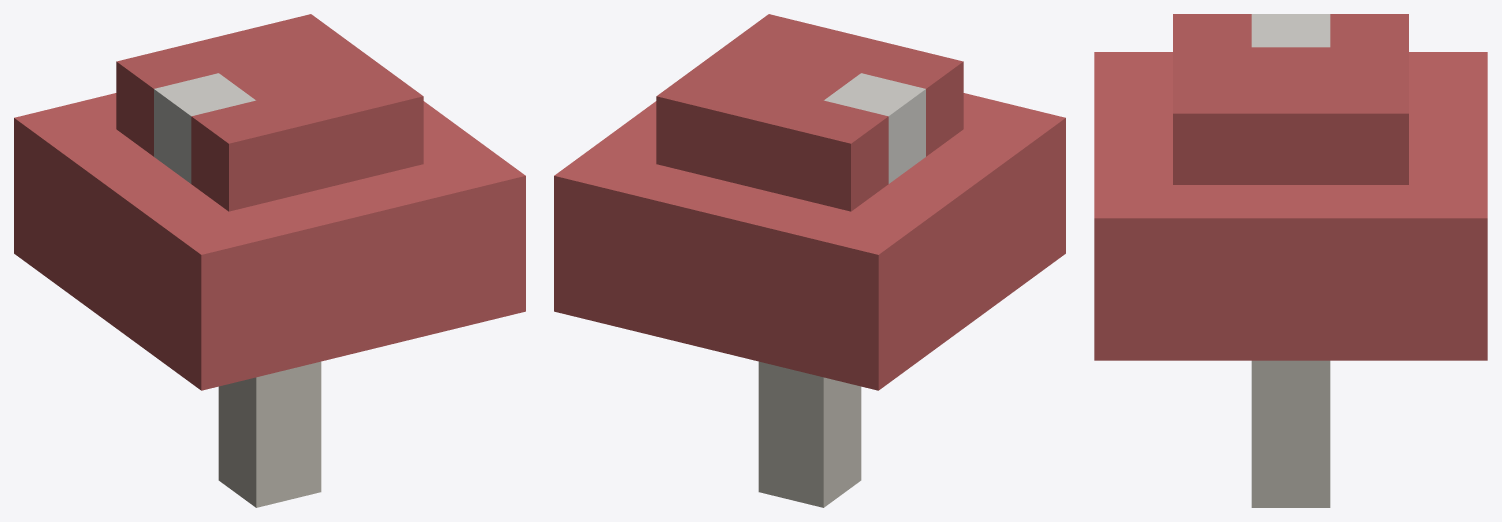
File: amanita_05.glb
3 renders of one model, left to right at view 1: azimuth 30°, elevation 25°; view 2: azimuth 150°, elevation 25°; view 3: azimuth 270°, elevation 25°, orthographic. The views are drawn at different scales.
Parts seen in each view (by area): view 1: amanita_05; view 2: amanita_05; view 3: amanita_05.
Boxes of the visible parts, box(x1,y1,x2,y2) form: amanita_05: box(14, 14, 525, 507); amanita_05: box(554, 14, 1065, 507); amanita_05: box(1094, 14, 1487, 507).
Bounding box in the file's own units: 0.5 × 0.6 × 0.5.
